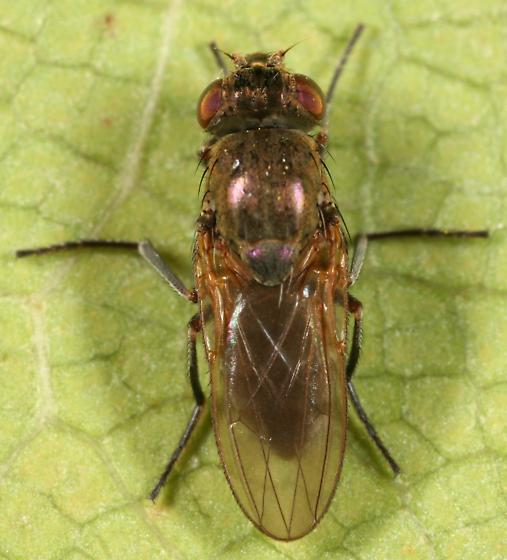Ephydridae: (17, 16, 492, 540)
